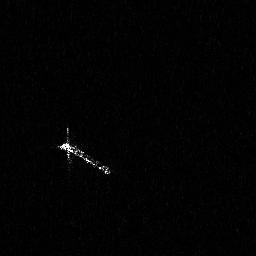ship: (58, 126, 111, 178)
